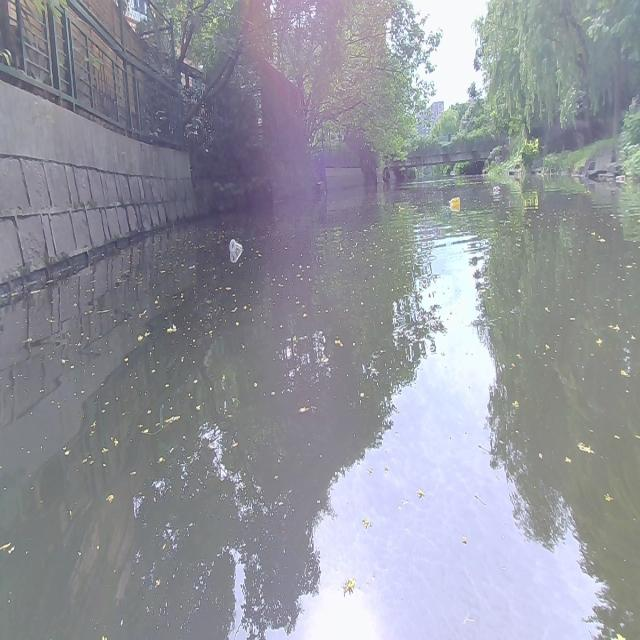bottle: (228, 236, 242, 252), (448, 195, 460, 205), (615, 174, 627, 182), (492, 184, 501, 191)
